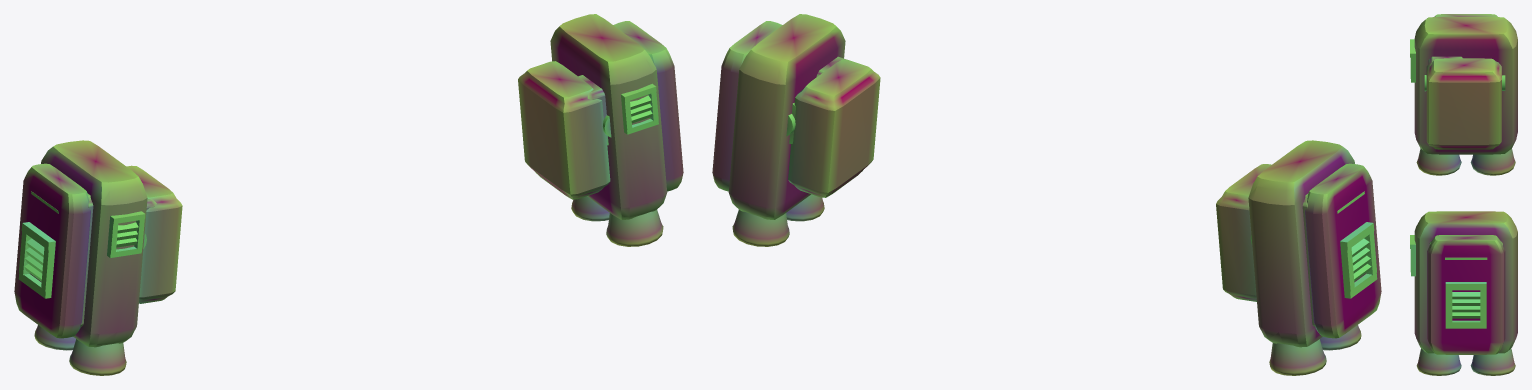
Rendered from llm_gen_leg_thrusters_063_07c80b.glb.
The picture shows the model from 3 angles, left to right: view 1: azimuth 30°, elevation 25°; view 2: azimuth 150°, elevation 25°; view 3: azimuth 270°, elevation 25°; orthographic projection. The views are drawn at different scales.
Visible parts, largest first — view 1: greave_pylon_0_barrel_metal_r, greave_pylon_0_barrel_metal_l, adapter_calf_clamp_r, lateral_binder_shroud_2_adapter_dark_l, adapter_calf_clamp_l, lateral_binder_shroud_2_adapter_dark_r, ankle_vector_bell_b_7_vernier_bell_vernier_l, adapter_sub_binder_side_vent_3_dark_l, ankle_vector_bell_b_7_vernier_bell_vernier_r, adapter_sub_greave_intake_grille_5_dark_l, adapter_sub_greave_intake_grille_5_dark_r, ankle_vector_bell_a_6_vernier_bell_vernier_r (+2 smaller); view 2: greave_pylon_0_barrel_metal_r, greave_pylon_0_barrel_metal_l, adapter_calf_clamp_r, lateral_binder_shroud_2_adapter_dark_l, adapter_calf_clamp_l, lateral_binder_shroud_2_adapter_dark_r, ankle_vector_bell_a_6_vernier_bell_vernier_l, adapter_sub_binder_side_vent_3_dark_l, ankle_vector_bell_a_6_vernier_bell_vernier_r, ankle_vector_bell_b_7_vernier_bell_vernier_r, binder_side_vent_3_intake_gold_l, ankle_vector_bell_b_7_vernier_bell_vernier_l; view 3: lateral_binder_shroud_2_adapter_dark_r, greave_pylon_0_barrel_metal_l, adapter_calf_clamp_l, greave_pylon_0_barrel_metal_r, adapter_sub_binder_side_vent_3_dark_r, ankle_vector_bell_a_6_vernier_bell_vernier_r, ankle_vector_bell_b_7_vernier_bell_vernier_r, ankle_vector_bell_b_7_vernier_bell_vernier_l, ankle_vector_bell_a_6_vernier_bell_vernier_l, binder_side_vent_3_intake_gold_r, adapter_sub_greave_intake_grille_5_dark_l, adapter_sub_greave_intake_grille_5_dark_r (+4 smaller).
Part boxes in pixels (x1,y1,x2,y2): greave_pylon_0_barrel_metal_r: (550, 14, 667, 219); greave_pylon_0_barrel_metal_l: (41, 140, 147, 347); adapter_calf_clamp_r: (518, 61, 610, 199); lateral_binder_shroud_2_adapter_dark_l: (14, 163, 90, 338); adapter_calf_clamp_l: (126, 165, 182, 303); lateral_binder_shroud_2_adapter_dark_r: (613, 21, 683, 191); ankle_vector_bell_b_7_vernier_bell_vernier_l: (69, 339, 126, 375); adapter_sub_binder_side_vent_3_dark_l: (18, 222, 55, 298); ankle_vector_bell_b_7_vernier_bell_vernier_r: (606, 209, 663, 246); adapter_sub_greave_intake_grille_5_dark_l: (107, 211, 145, 257); adapter_sub_greave_intake_grille_5_dark_r: (621, 83, 658, 134); ankle_vector_bell_a_6_vernier_bell_vernier_r: (571, 196, 609, 221); greave_pylon_0_barrel_metal_r: (728, 14, 845, 219); greave_pylon_0_barrel_metal_l: (1248, 140, 1354, 347); adapter_calf_clamp_r: (788, 59, 880, 197); lateral_binder_shroud_2_adapter_dark_l: (1305, 163, 1381, 338); adapter_calf_clamp_l: (1216, 164, 1271, 301); lateral_binder_shroud_2_adapter_dark_r: (712, 21, 782, 191); ankle_vector_bell_a_6_vernier_bell_vernier_l: (1269, 339, 1326, 375); adapter_sub_binder_side_vent_3_dark_l: (1340, 222, 1377, 298); ankle_vector_bell_a_6_vernier_bell_vernier_r: (732, 209, 789, 246); ankle_vector_bell_b_7_vernier_bell_vernier_r: (786, 194, 824, 221); binder_side_vent_3_intake_gold_l: (1351, 238, 1371, 281); ankle_vector_bell_b_7_vernier_bell_vernier_l: (1320, 325, 1361, 350); lateral_binder_shroud_2_adapter_dark_r: (1427, 235, 1505, 354); greave_pylon_0_barrel_metal_l: (1414, 17, 1517, 154); adapter_calf_clamp_l: (1426, 58, 1501, 149); greave_pylon_0_barrel_metal_r: (1414, 211, 1517, 353); adapter_sub_binder_side_vent_3_dark_r: (1445, 282, 1486, 328); ankle_vector_bell_a_6_vernier_bell_vernier_r: (1470, 348, 1515, 375); ankle_vector_bell_b_7_vernier_bell_vernier_r: (1416, 348, 1461, 375); ankle_vector_bell_b_7_vernier_bell_vernier_l: (1416, 148, 1461, 175); ankle_vector_bell_a_6_vernier_bell_vernier_l: (1470, 148, 1515, 175); binder_side_vent_3_intake_gold_r: (1452, 292, 1480, 318); adapter_sub_greave_intake_grille_5_dark_l: (1410, 39, 1415, 82); adapter_sub_greave_intake_grille_5_dark_r: (1410, 235, 1415, 276).
Size of the model in its own units: 82.98 by 23.9 by 15.73.
